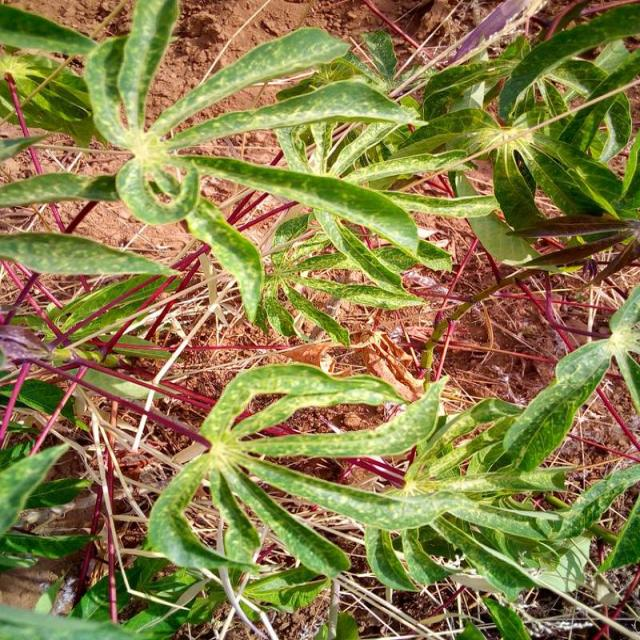cassava leaf: (2, 0, 446, 327), (147, 361, 450, 579)
